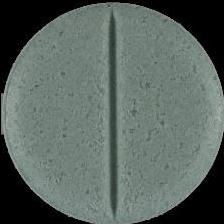53808-0840: (0, 0, 224, 224)
